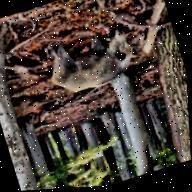boar: (37, 13, 143, 102)
